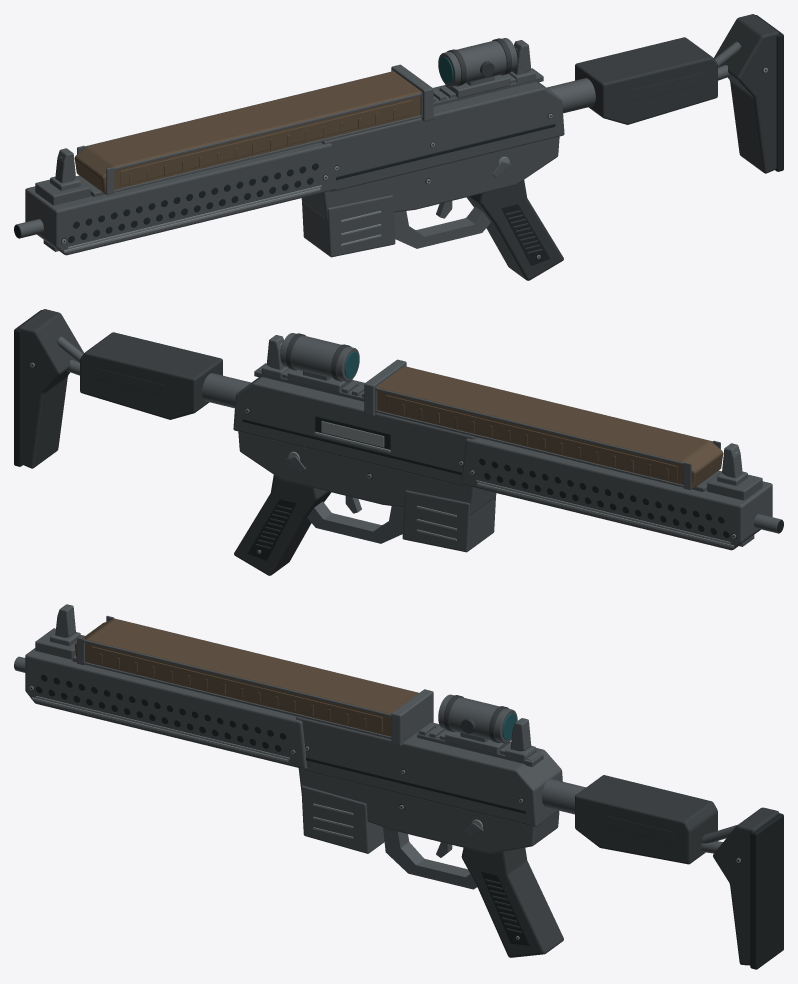
The picture shows the model from 3 angles, top to bottom: view 1: azimuth 30°, elevation 25°; view 2: azimuth 150°, elevation 25°; view 3: azimuth 330°, elevation 25°; orthographic projection.
Parts seen in each view (by area): view 1: part_magazine_surfaces, part_stock_surfaces, part_handguard_surfaces, part_lower_surfaces, part_receiver_surfaces, part_grip_surfaces, part_optic_surfaces, part_sights_surfaces; view 2: part_magazine_surfaces, part_stock_surfaces, part_handguard_surfaces, part_lower_surfaces, part_receiver_surfaces, part_grip_surfaces, part_optic_surfaces, part_sights_surfaces; view 3: part_stock_surfaces, part_magazine_surfaces, part_receiver_surfaces, part_handguard_surfaces, part_lower_surfaces, part_grip_surfaces, part_optic_surfaces, part_sights_surfaces.
Part boxes in pixels (x1,y1,x2,y2): part_magazine_surfaces: (74, 64, 433, 195); part_stock_surfaces: (547, 14, 783, 173); part_handguard_surfaces: (25, 142, 336, 255); part_lower_surfaces: (301, 136, 559, 257); part_receiver_surfaces: (321, 68, 564, 191); part_grip_surfaces: (466, 180, 563, 280); part_optic_surfaces: (438, 38, 517, 98); part_sights_surfaces: (35, 40, 539, 205); part_magazine_surfaces: (364, 359, 723, 490); part_stock_surfaces: (14, 309, 250, 468); part_handguard_surfaces: (461, 437, 772, 550); part_lower_surfaces: (238, 431, 496, 552); part_receiver_surfaces: (233, 363, 476, 486); part_grip_surfaces: (234, 475, 331, 575); part_optic_surfaces: (280, 333, 359, 393); part_sights_surfaces: (258, 335, 762, 500); part_stock_surfaces: (542, 775, 783, 969); part_magazine_surfaces: (74, 615, 433, 746); part_receiver_surfaces: (296, 716, 562, 826); part_handguard_surfaces: (25, 648, 307, 769); part_lower_surfaces: (298, 768, 559, 889); part_grip_surfaces: (461, 848, 563, 957); part_optic_surfaces: (438, 694, 517, 754); part_sights_surfaces: (35, 604, 539, 760).
Bounding box in the file's own units: 300 × 90.68 × 23.
